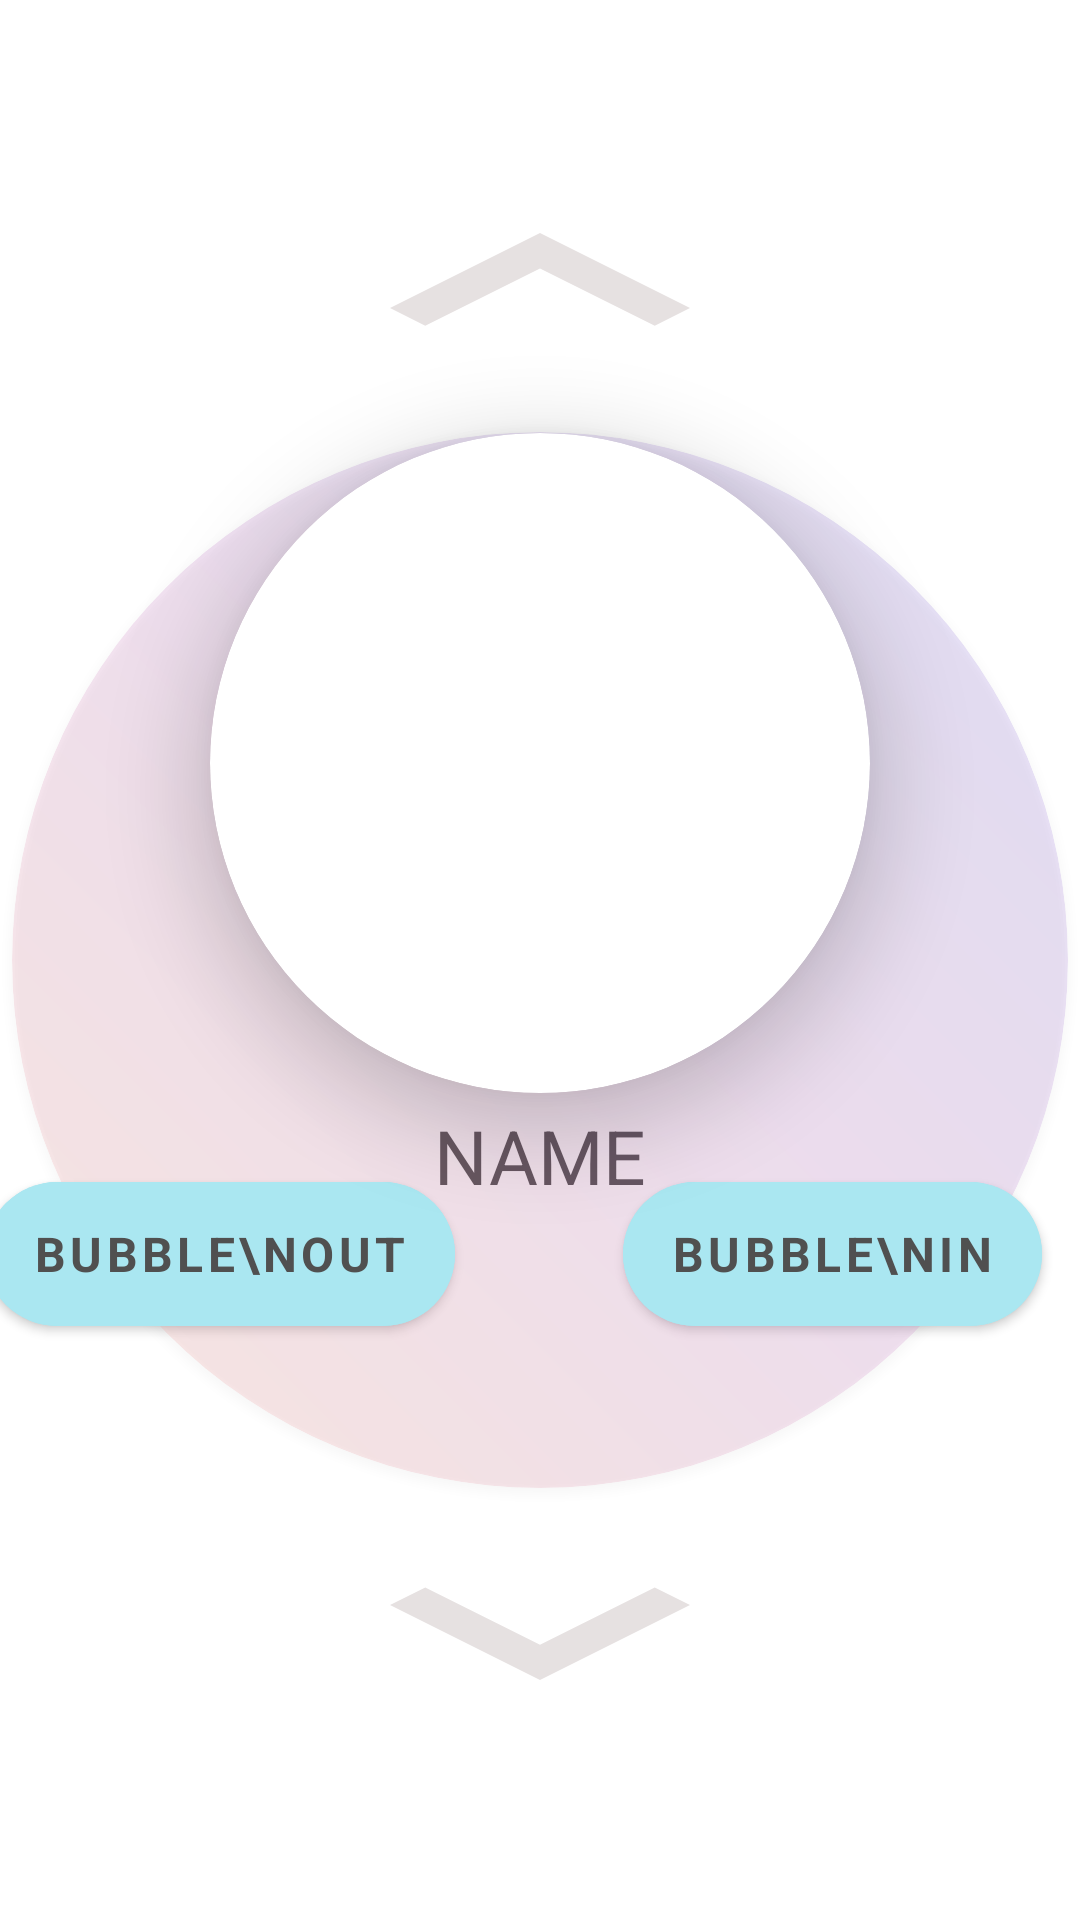

Icon bounding boxes for this 1080px×1920px phone screenshot, format BBox(x1, y1, x2, y2):
keyboard arrow down: BBox(392, 1588, 688, 1679)
keyboard arrow up: BBox(392, 234, 688, 325)
